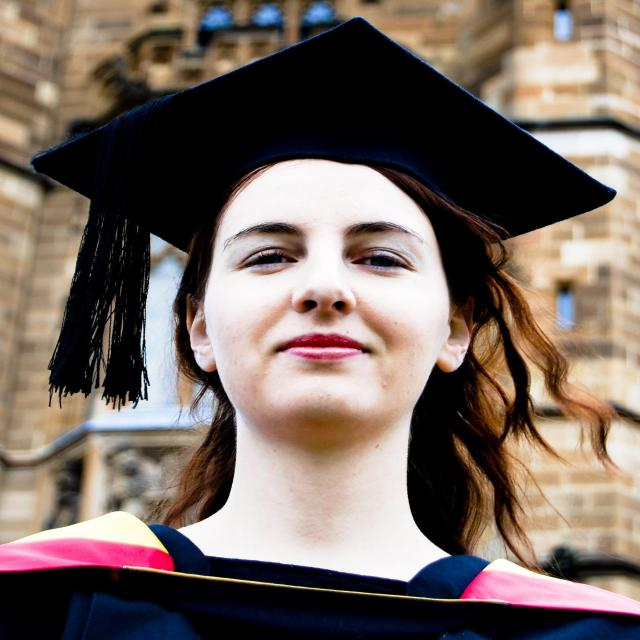no-glass: (242, 246, 406, 274)
